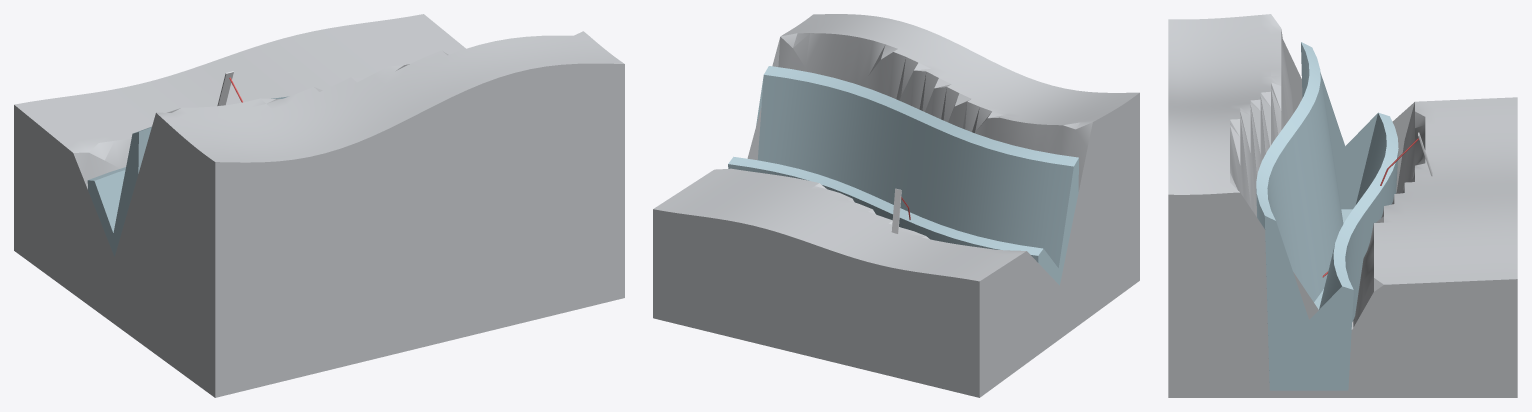
The model's file is mountaineering-and-summit-expedition-bergschrund-lip-38c82e11__18831.glb.
3 renders of one model, left to right at view 1: azimuth 30°, elevation 25°; view 2: azimuth 150°, elevation 25°; view 3: azimuth 270°, elevation 25°, orthographic. The views are drawn at different scales.
Parts seen in each view (by area): view 1: bergschrund-lip; view 2: bergschrund-lip; view 3: bergschrund-lip.
Boxes of the visible parts, bbox=[...] form: bergschrund-lip: bbox=[14, 14, 624, 397]; bergschrund-lip: bbox=[653, 14, 1139, 397]; bergschrund-lip: bbox=[1168, 14, 1517, 397].
Size of the model in its own units: 4 by 2.44 by 3.4.
